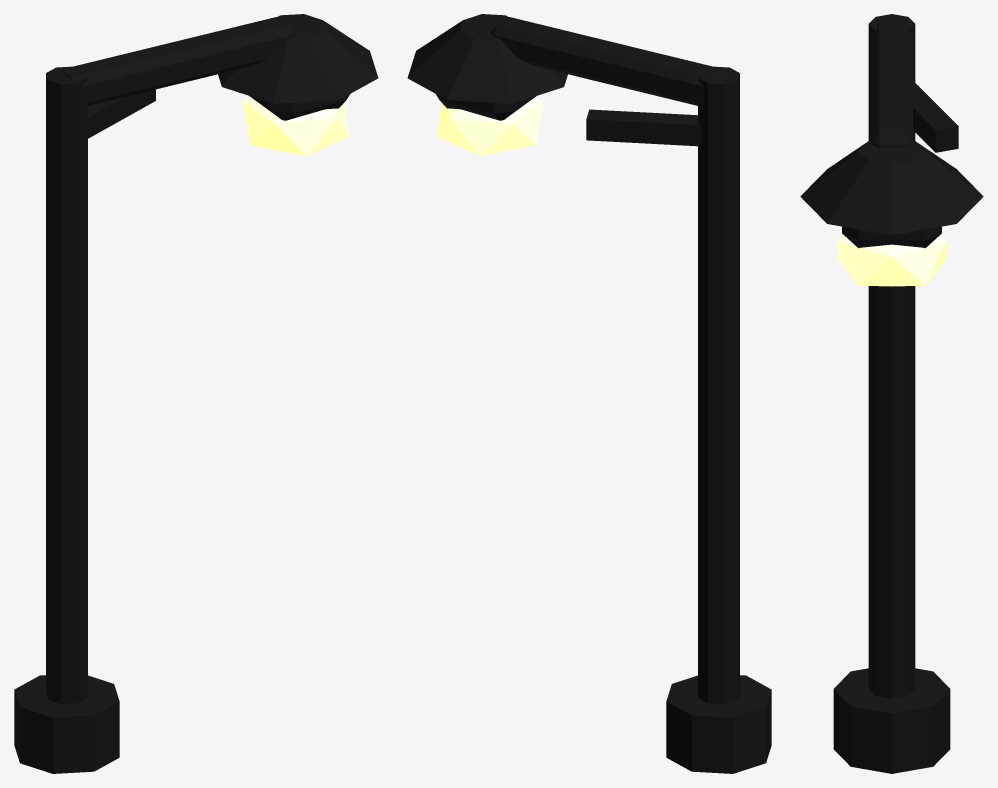
The model's file is lamp.glb.
3 renders of one model, left to right at view 1: azimuth 30°, elevation 25°; view 2: azimuth 150°, elevation 25°; view 3: azimuth 270°, elevation 25°, orthographic. The views are drawn at different scales.
Parts seen in each view (by area): view 1: LampPole, LampArm, LampShade, LampBase, LampGlow, LampBrace, LampHousing; view 2: LampPole, LampArm, LampShade, LampBase, LampGlow, LampBrace, LampHousing; view 3: LampPole, LampShade, LampBase, LampArm, LampGlow, LampBrace, LampHousing.
Part boxes in pixels (box(x1,y1,x2,y2)): LampPole: box(46, 66, 87, 704); LampArm: box(59, 17, 294, 105); LampShade: box(218, 14, 378, 103); LampBase: box(14, 675, 119, 773); LampGlow: box(242, 97, 348, 155); LampBrace: box(88, 89, 155, 138); LampHousing: box(249, 94, 349, 120); LampPole: box(698, 66, 739, 704); LampArm: box(491, 17, 726, 105); LampShade: box(407, 14, 567, 103); LampBase: box(666, 675, 771, 773); LampGlow: box(437, 97, 543, 155); LampBrace: box(586, 109, 700, 146); LampHousing: box(436, 94, 536, 120); LampPole: box(868, 14, 915, 698); LampShade: box(800, 141, 983, 235); LampBase: box(833, 668, 950, 773); LampArm: box(871, 22, 912, 147); LampGlow: box(837, 234, 946, 286); LampBrace: box(913, 81, 958, 152); LampHousing: box(842, 226, 941, 248).
Bounding box in the file's own units: 0.52 × 0.9625 × 0.22.
